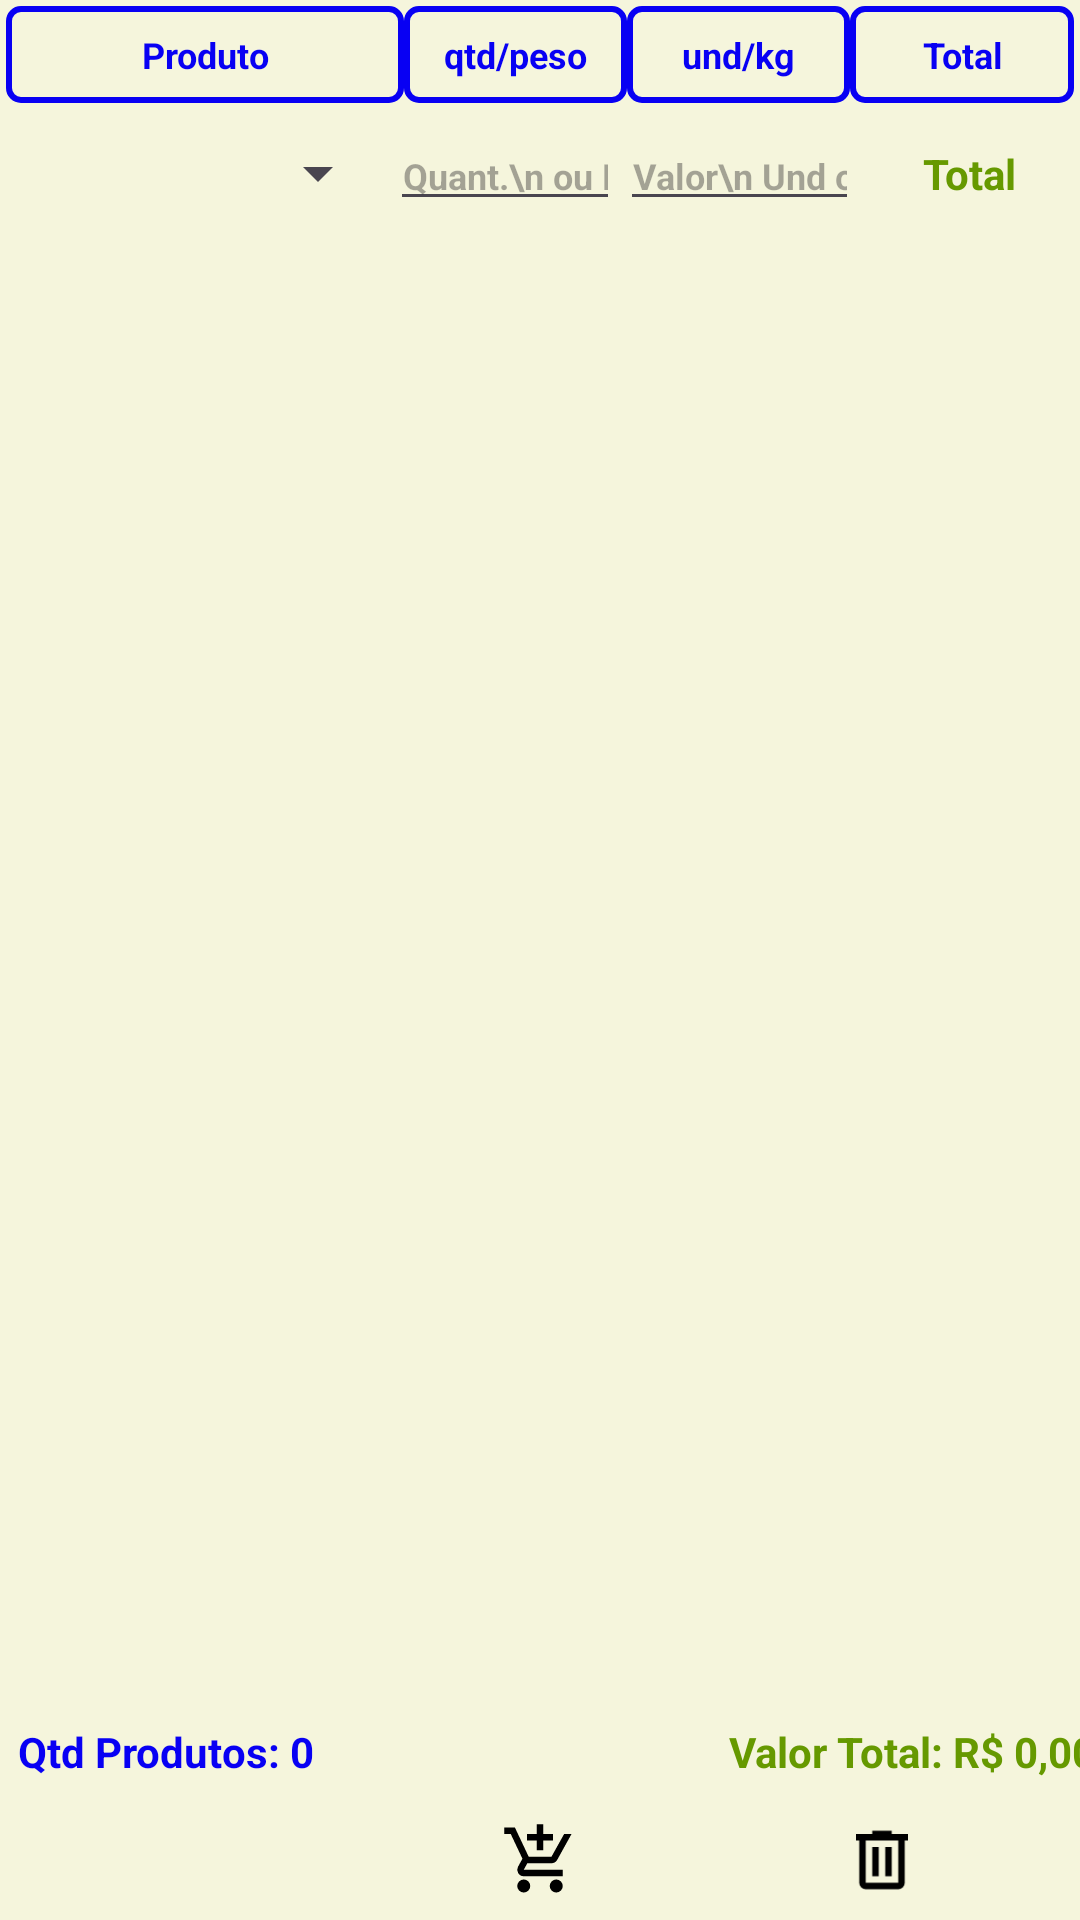

Where to tap for icons on this 1080 × 1920 app screen, as [x,y]:
add shopping cart: [538,1858]
delete: [882,1860]
